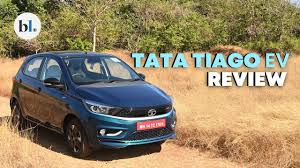Tiago: (9, 49, 178, 160)
